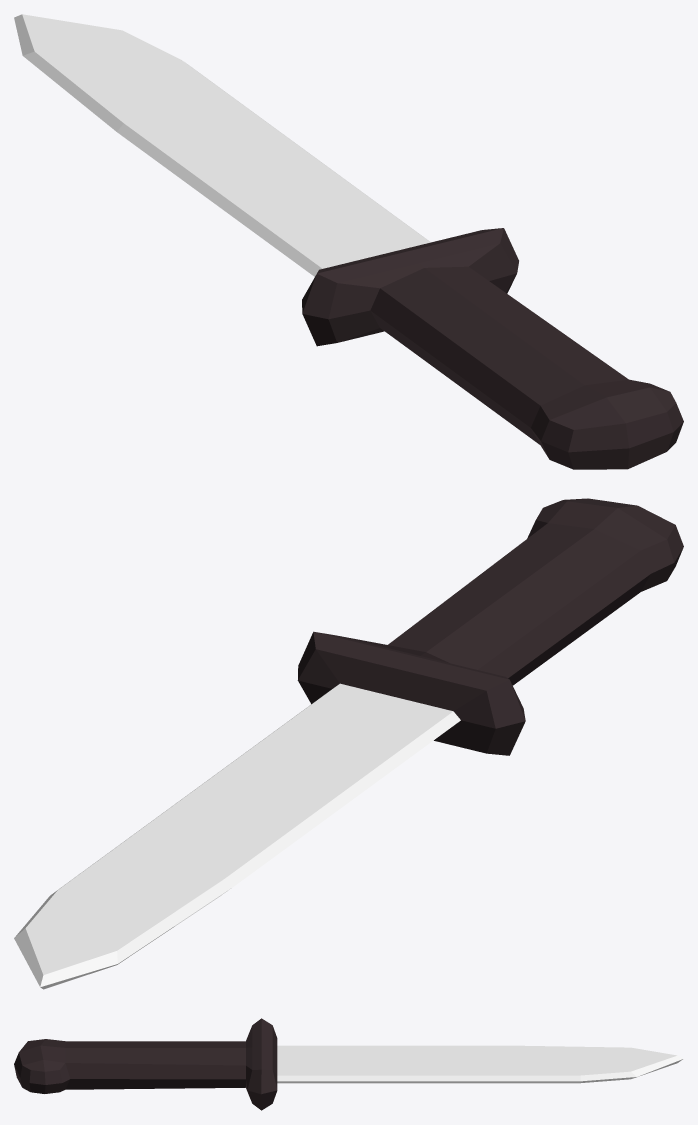
The model's file is Knife_01.fbx.
3 views of the same model, one above another, from view 1: azimuth 30°, elevation 25°; view 2: azimuth 150°, elevation 25°; view 3: azimuth 270°, elevation 25° (orthographic). The views are drawn at different scales.
Parts seen in each view (by area): view 1: Knife_01; view 2: Knife_01; view 3: Knife_01.
Part boxes in pixels (x1,y1,x2,y2): Knife_01: (14, 14, 683, 469); Knife_01: (14, 498, 683, 989); Knife_01: (14, 1018, 683, 1110).
Bounding box in the file's own units: 11.85 × 3.8 × 56.34.
